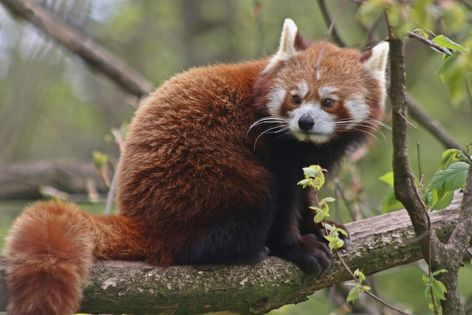red_panda: (6, 26, 397, 299)
